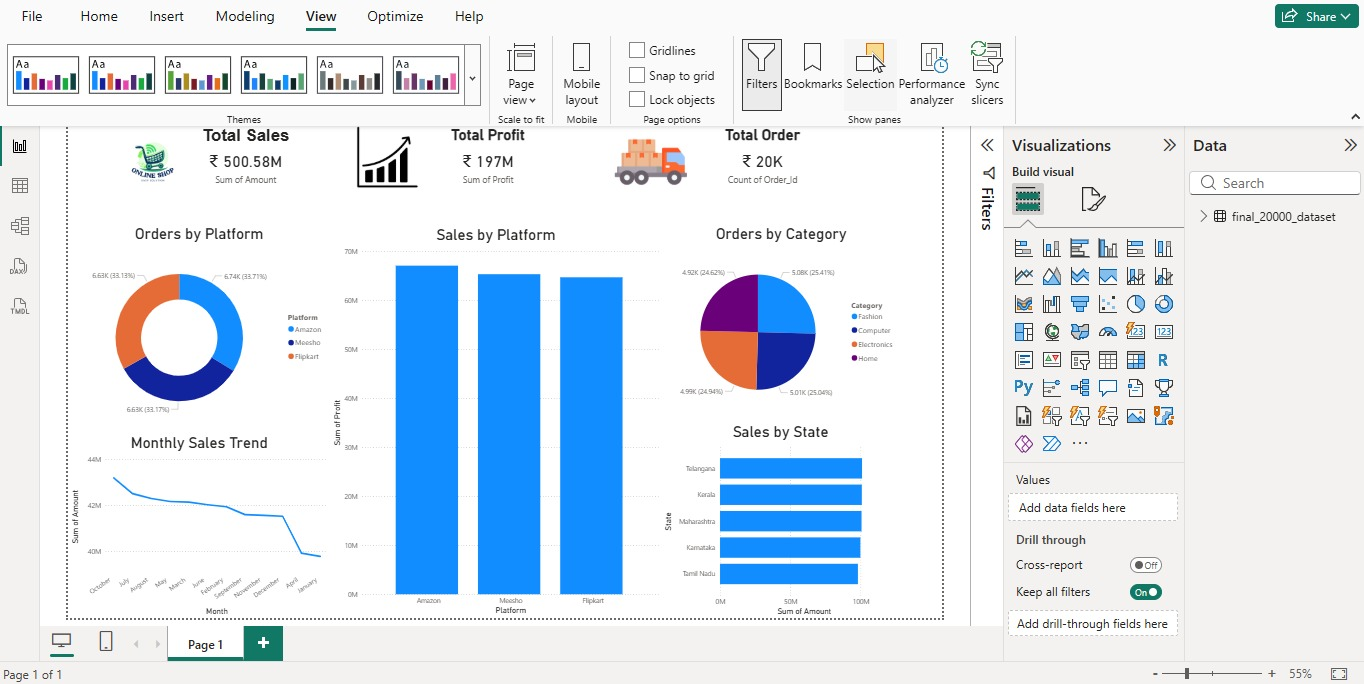

The dashboard page shown, as its layout file describes it:
{"tool":"powerbi","page":{"name":"Page 1","canvas":[1600,900],"ordinal":0},"visuals":[{"type":"card","title":"Total Sales","fields":{"Values":["Sum(final_20000_dataset.Amount)"]},"box":[150,0,350,114],"z":0},{"type":"card","title":"Total Profit","fields":{"Values":["Sum(final_20000_dataset.Profit)"]},"box":[638,0,260,114],"z":1000},{"type":"card","title":"Total Order","fields":{"Values":["CountNonNull(final_20000_dataset.Order_Id)"]},"box":[1130,0,280,114],"z":2000},{"type":"donutChart","title":"Orders by Platform","fields":{"Category":["final_20000_dataset.Platform"],"Y":["CountNonNull(final_20000_dataset.Order_Id)"]},"box":[0,182,480,380],"z":3000},{"type":"columnChart","title":"Sales by Platform","fields":{"Category":["final_20000_dataset.Platform"],"Y":["Sum(final_20000_dataset.Profit)"]},"box":[480,183.3,606.7,716.7],"z":4000},{"type":"lineChart","title":"Monthly Sales Trend","fields":{"Category":["final_20000_dataset.Month"],"Y":["Sum(final_20000_dataset.Amount)"]},"box":[0,562.5,480,337.5],"z":5000},{"type":"pieChart","title":"Orders by Category","fields":{"Category":["final_20000_dataset.Category"],"Y":["CountNonNull(final_20000_dataset.Order_Id)"]},"box":[1086,182,436,360],"z":6000},{"type":"barChart","title":"Sales by State","fields":{"Category":["final_20000_dataset.State"],"Y":["Sum(final_20000_dataset.Amount)"]},"box":[1085,542.5,437.5,357.5],"z":7000},{"type":"image","box":[72,0,168,132],"z":7002},{"type":"image","box":[500,0,170,114],"z":7003},{"type":"image","box":[952,0,230,132],"z":7004}]}

Visuals, with their boxes on the page's 1600x900 design canvas (x1, y1, x2, y2). These are canvas units, not pixel positions in the 1364x684 screenshot, which may show the page scaled, cropped or inside an application window:
"Total Sales" card: [150, 0, 500, 114]
"Total Profit" card: [638, 0, 898, 114]
"Total Order" card: [1130, 0, 1410, 114]
"Orders by Platform" donutChart: [0, 182, 480, 562]
"Sales by Platform" columnChart: [480, 183, 1087, 900]
"Monthly Sales Trend" lineChart: [0, 562, 480, 900]
"Orders by Category" pieChart: [1086, 182, 1522, 542]
"Sales by State" barChart: [1085, 542, 1522, 900]
image: [72, 0, 240, 132]
image: [500, 0, 670, 114]
image: [952, 0, 1182, 132]
